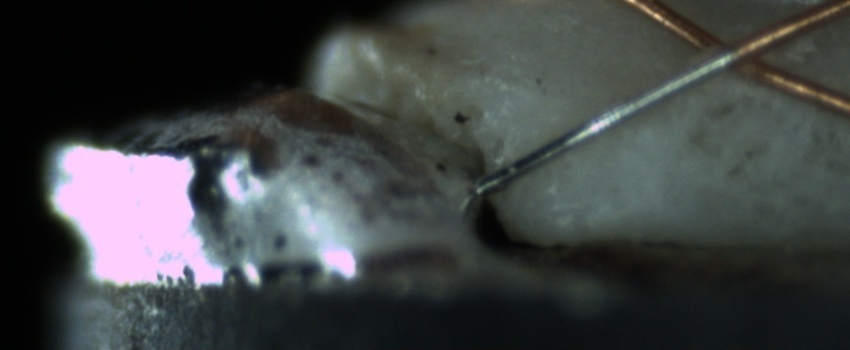CL: (672, 13, 804, 84)
TS: (471, 44, 737, 200)
